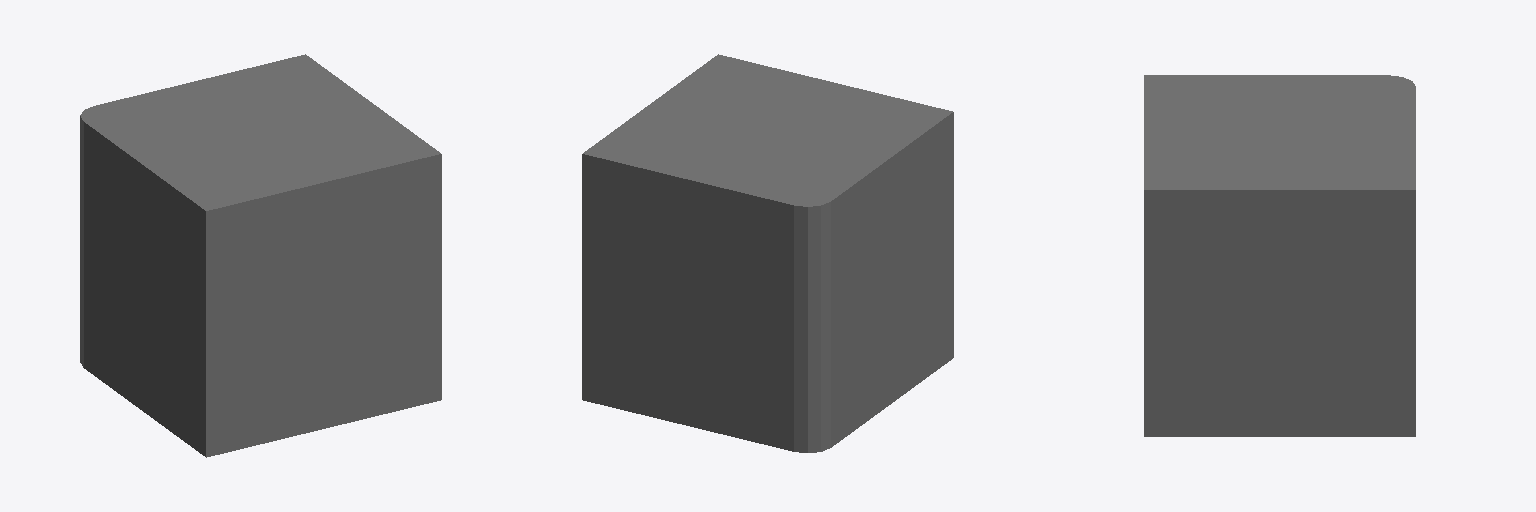
The model's file is block1.obj.
3 views of the same model, side by side, from view 1: azimuth 30°, elevation 25°; view 2: azimuth 150°, elevation 25°; view 3: azimuth 270°, elevation 25° (orthographic).
Visible parts, largest first — view 1: block4:pCube1; view 2: block4:pCube1; view 3: block4:pCube1.
Part boxes in pixels (left/top/right/bottom): block4:pCube1: left=80, top=54, right=441, bottom=457; block4:pCube1: left=582, top=54, right=953, bottom=452; block4:pCube1: left=1144, top=75, right=1415, bottom=436.
Size of the model in its own units: 1 by 1 by 1.